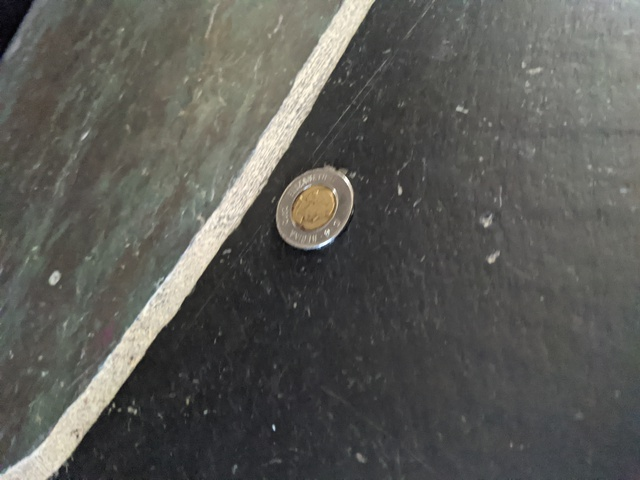twonie: (261, 160, 366, 258)
